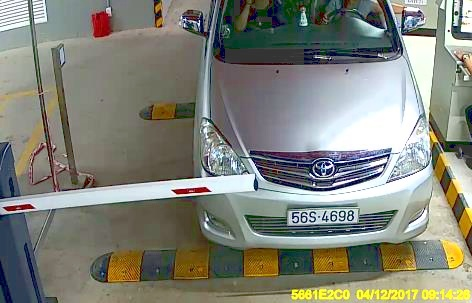plate: (286, 200, 365, 230)
